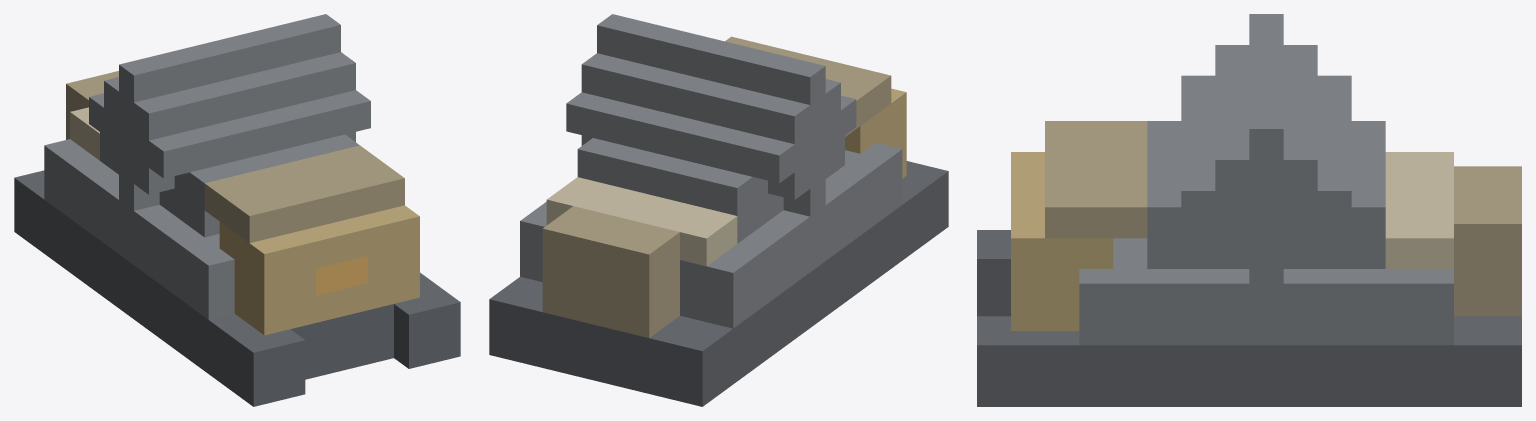
Rendered from foot_r.glb.
The picture shows the model from 3 angles, left to right: view 1: azimuth 30°, elevation 25°; view 2: azimuth 150°, elevation 25°; view 3: azimuth 270°, elevation 25°; orthographic projection. The views are drawn at different scales.
Size of the model in its own units: 8 by 9 by 16.
